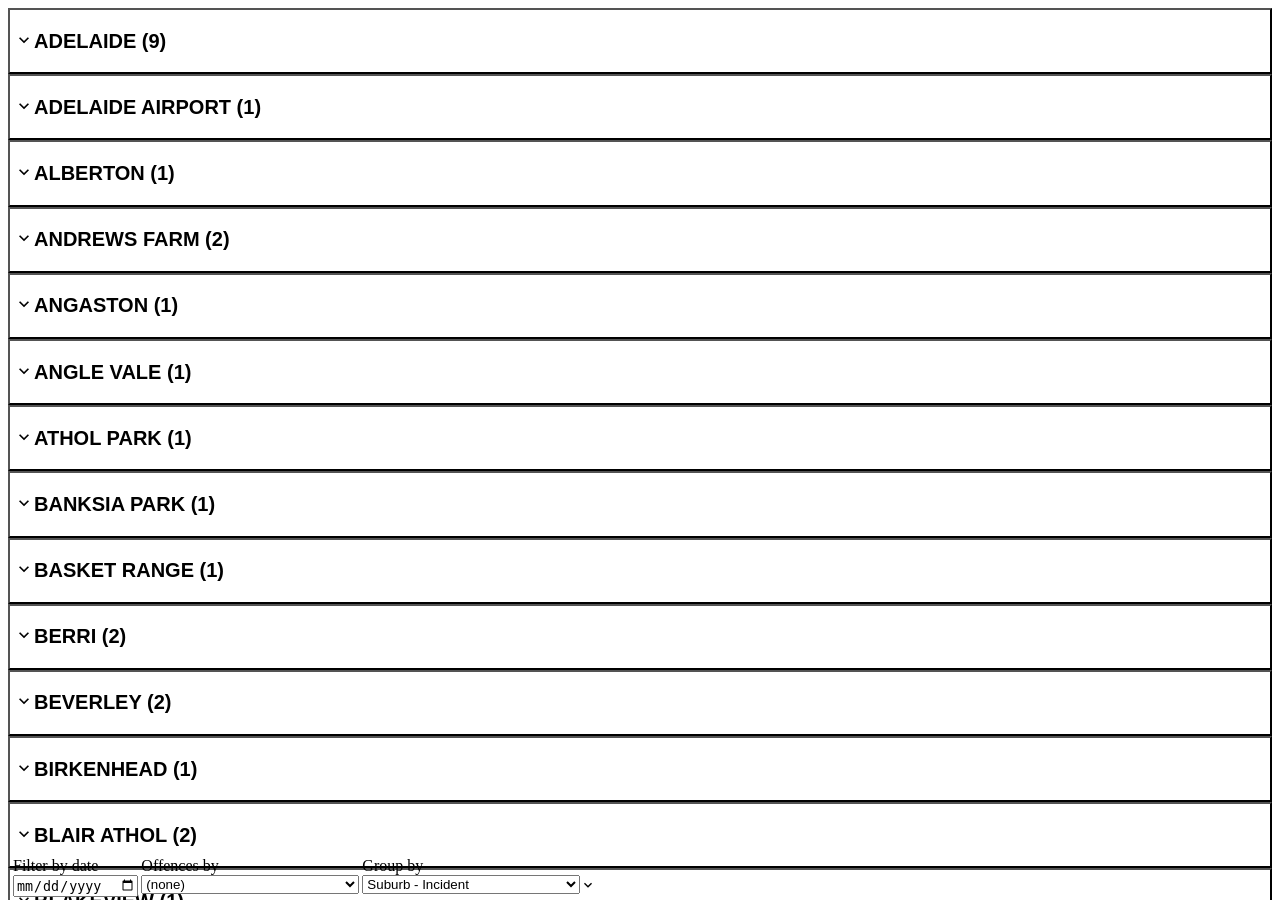
Test: EndpointData › unsets Group by when Offences by selected
Select "Offence Level 2 Description" in the dropdown labelled "Offences by" at (250, 885), box 141,876 -> 359,895
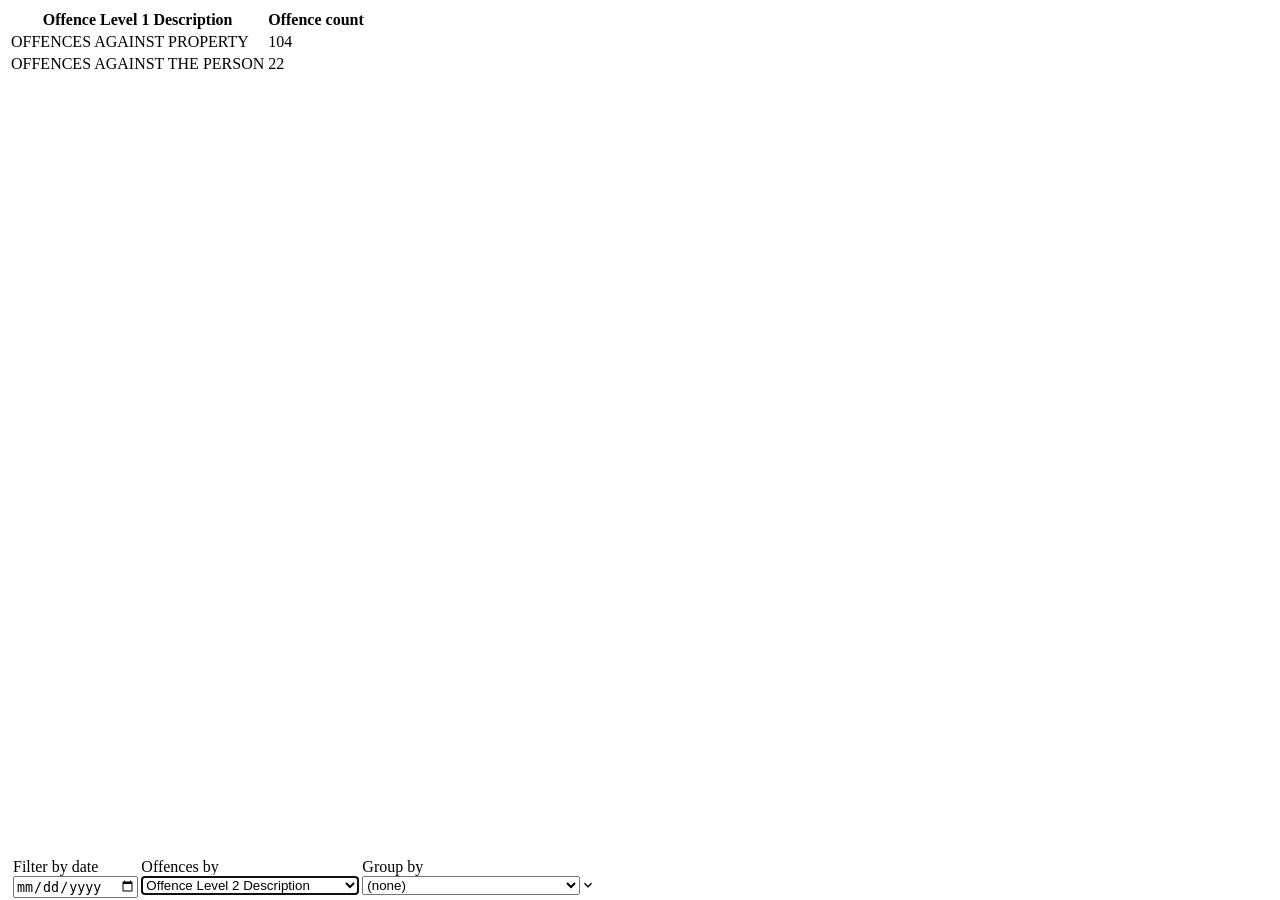
Expected: the dropdown labelled "Group by" shows "(none)", 362,876 -> 580,895
